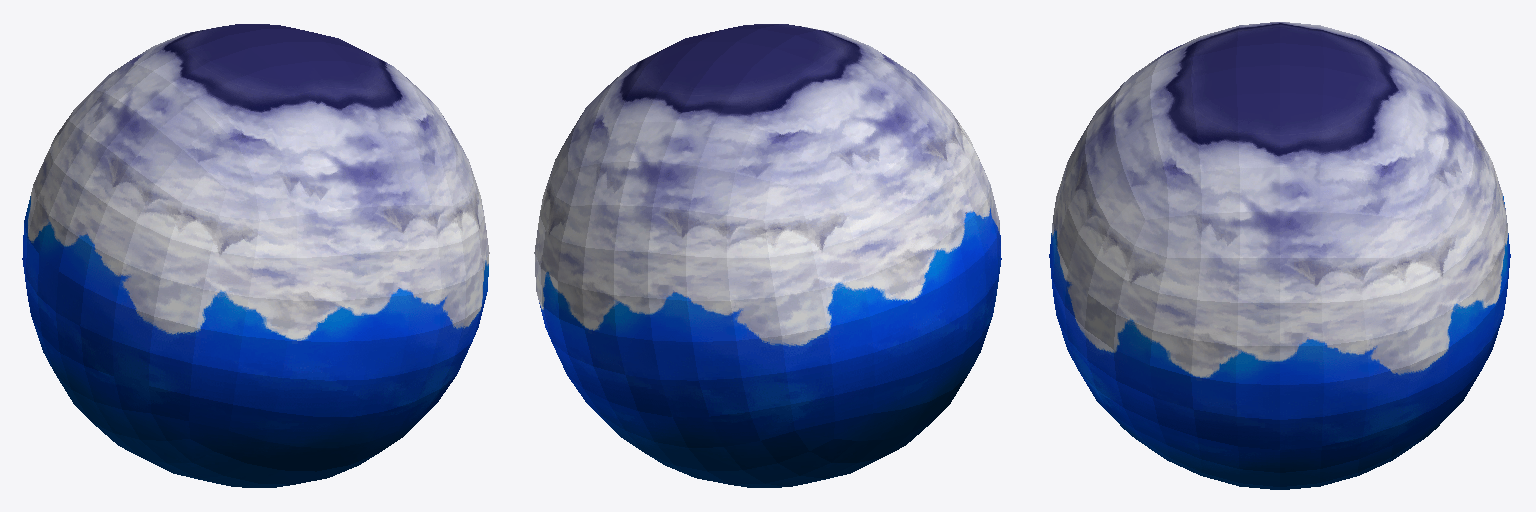
3 renders of one model, left to right at view 1: azimuth 30°, elevation 25°; view 2: azimuth 150°, elevation 25°; view 3: azimuth 270°, elevation 25°, orthographic.
Parts seen in each view (by area): view 1: skybox; view 2: skybox; view 3: skybox.
Boxes of the visible parts, x1,y1,x2,y2 form: skybox: [22, 24, 489, 487]; skybox: [534, 24, 1001, 487]; skybox: [1049, 22, 1510, 489].
Bounding box in the file's own units: 3825 × 3825 × 3815.
Materials: 1 (1 with a texture image).